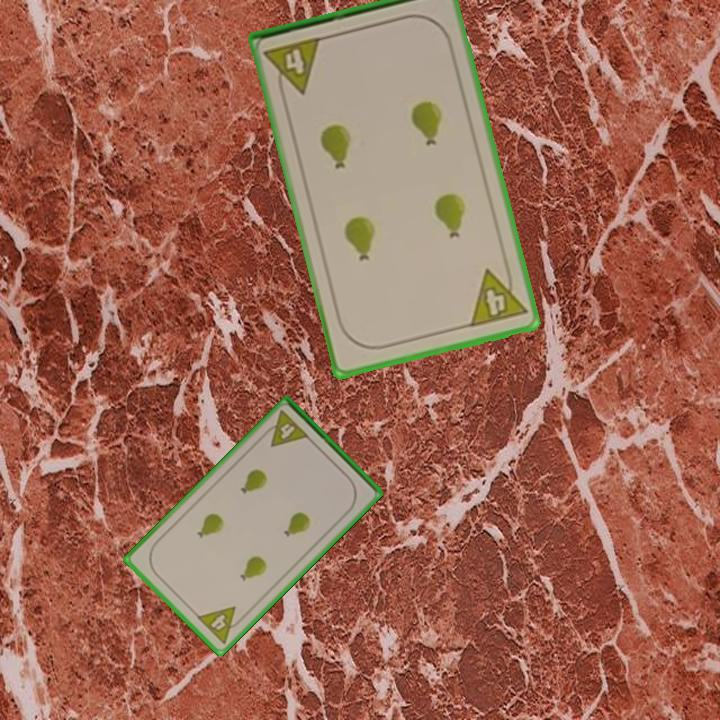4p: (466, 261, 530, 330), (261, 33, 325, 101), (193, 603, 248, 647), (259, 407, 312, 450)
